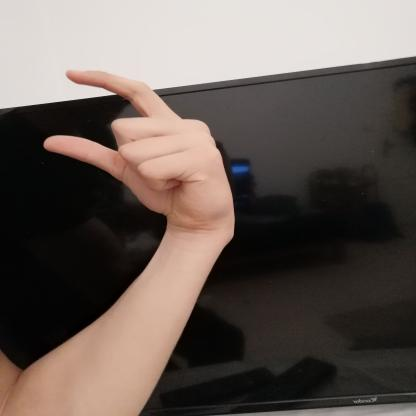DELL: (32, 59, 245, 245)
